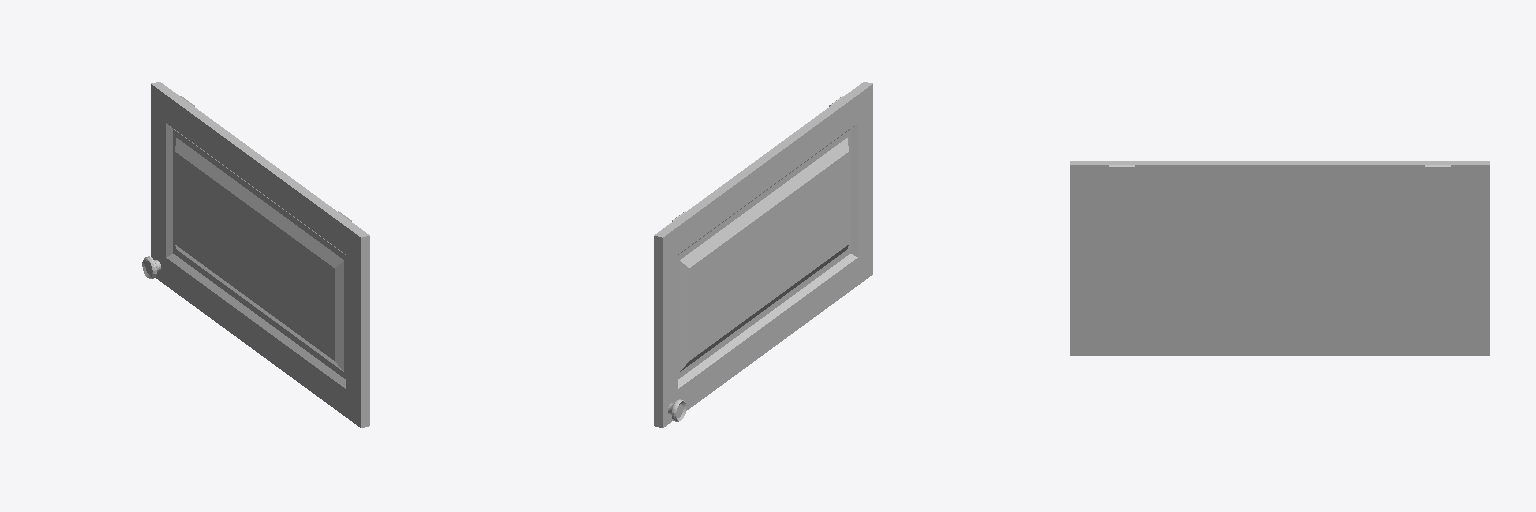
Rendered from am_kitchen01_doorl.obj.
3 renders of one model, left to right at view 1: azimuth 30°, elevation 25°; view 2: azimuth 150°, elevation 25°; view 3: azimuth 270°, elevation 25°, orthographic.
Parts seen in each view (by area): view 1: am_kitchen01_doorl; view 2: am_kitchen01_doorl; view 3: am_kitchen01_doorl.
Part boxes in pixels (x1,y1,x2,y2): am_kitchen01_doorl: (142,82,369,427); am_kitchen01_doorl: (654,82,872,427); am_kitchen01_doorl: (1070,161,1489,355).
Size of the model in its own units: 1.93 by 16.01 by 32.